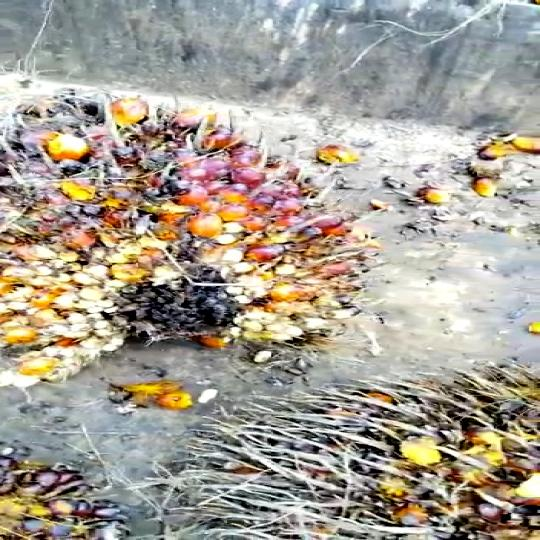masak: (0, 83, 399, 380)
